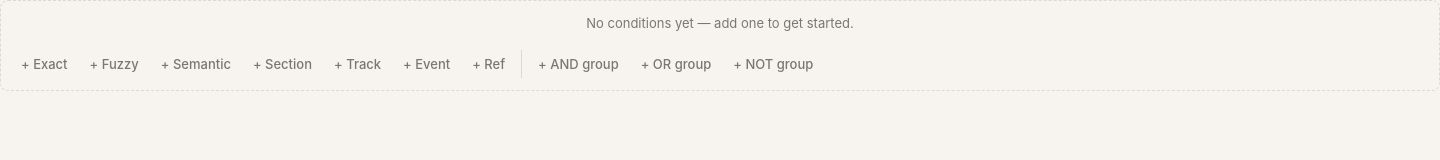
it: ConditionTreeEditor › adding a group from empty creates a root group with its own add row
Click the button "+ OR group" at [676, 64], box left=633, top=50, right=719, bottom=78
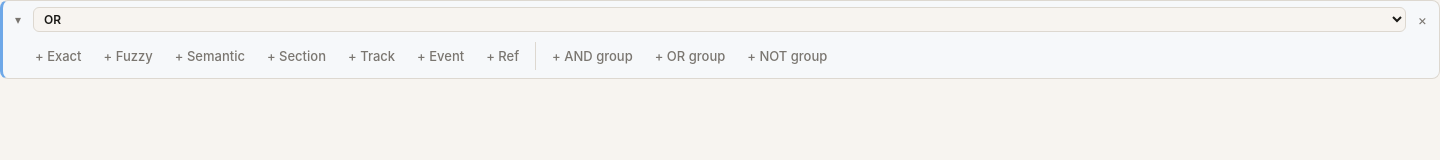
Expected: the number of buttons "+ Exact" is 1, left=27, top=42, right=90, bottom=70
Expected: the dropdown showing "OR" is shown, left=33, top=7, right=1406, bottom=32
